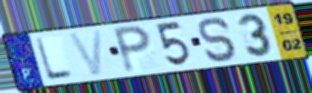3: (236, 12, 275, 59)
5: (155, 19, 192, 69)
L: (33, 36, 76, 82)
P: (111, 24, 154, 76)
S: (197, 16, 240, 63)
V: (67, 29, 105, 78)
